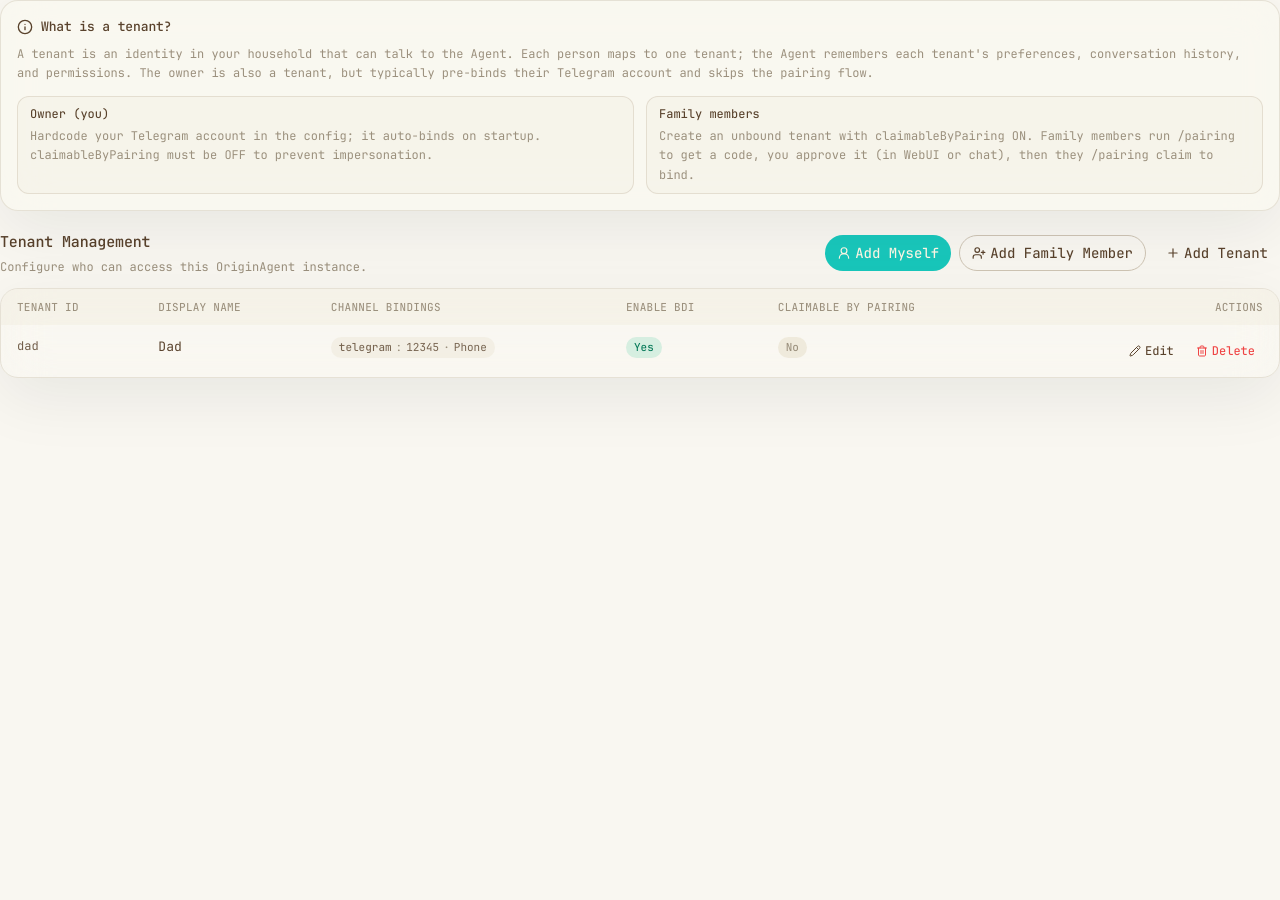
Test: TenantsSettings › opens a confirmation dialog when delete is clicked
Expected: the text "dad" is shown, [1, 325, 142, 377]
What coordinates should you click on to do the following:
click the button "Delete"
I would click on:
 (1225, 351)
Its box is [1188, 337, 1263, 365].
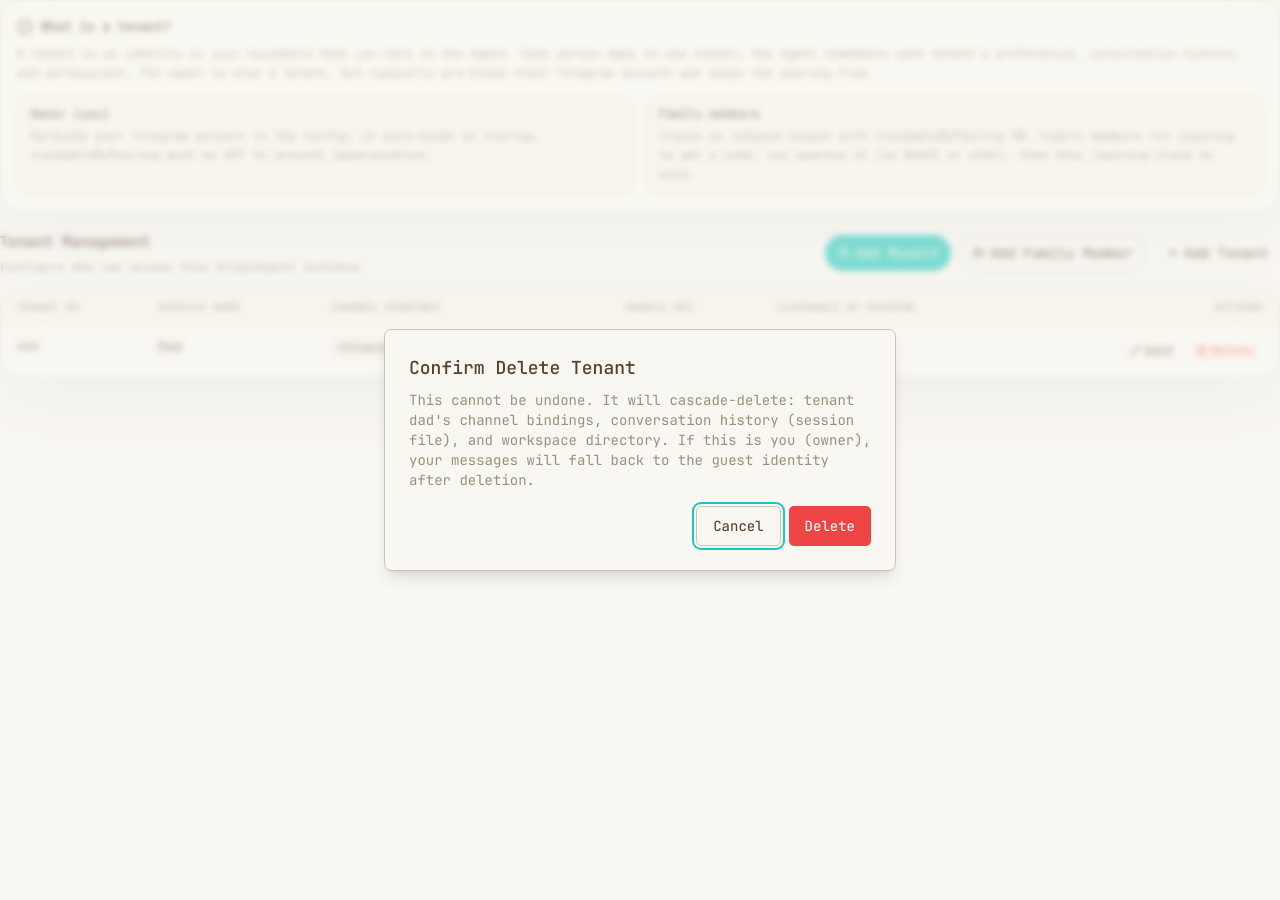
Now the heading "Confirm Delete Tenant" is shown, box [409, 356, 636, 379]
Now the button "Cancel" is shown, box [696, 506, 781, 546]
